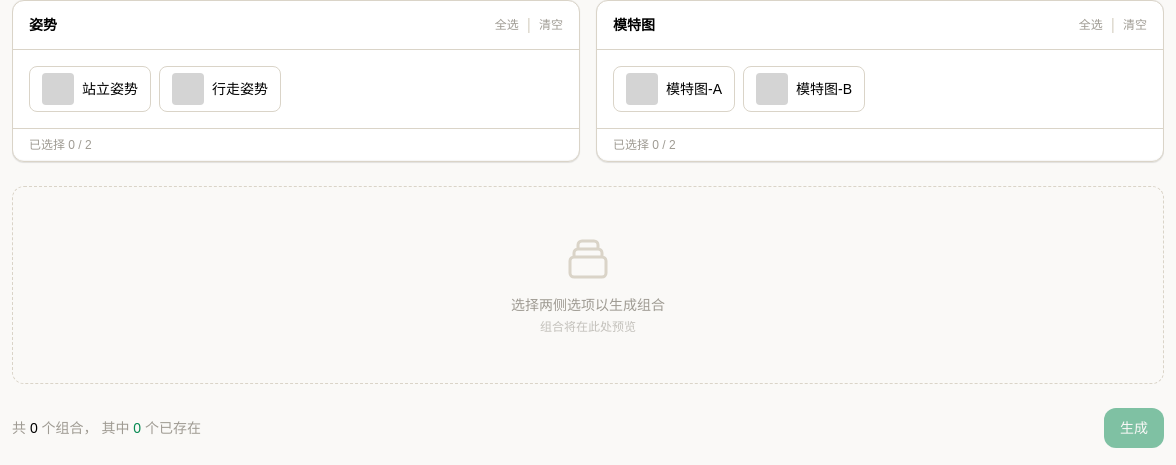
Scenario: CombinationSelector › filters existing combinations
// Select the existing combination
Click the button "站立姿势" at point(90, 89), box [29,66,151,112]
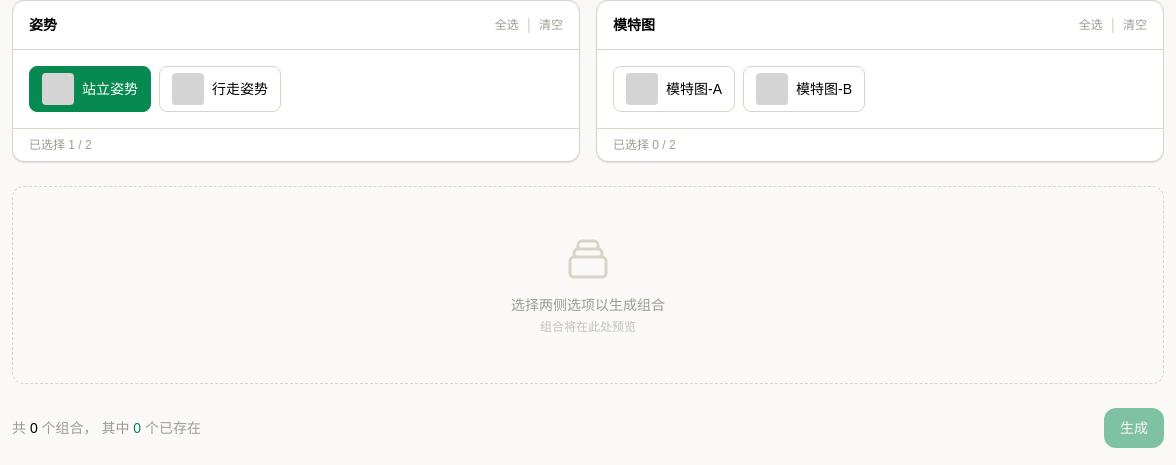
Click the button "模特图-A" at point(674, 89), box [613,66,735,112]
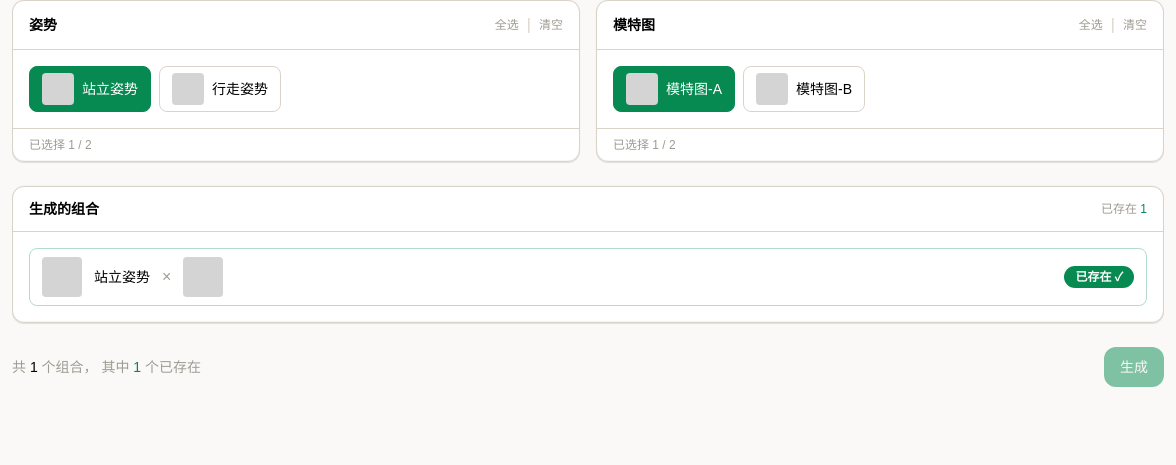
Expected: the text "已存在 ✓" is shown, [1064,266,1134,288]
